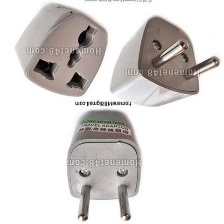three_eye_plug: (107, 11, 222, 113), (7, 0, 112, 100), (65, 105, 143, 221)
